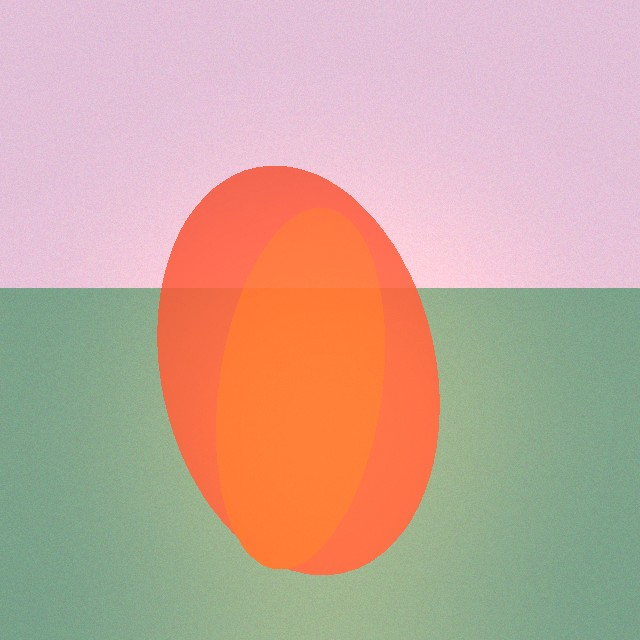fire: (231, 283, 419, 557)
